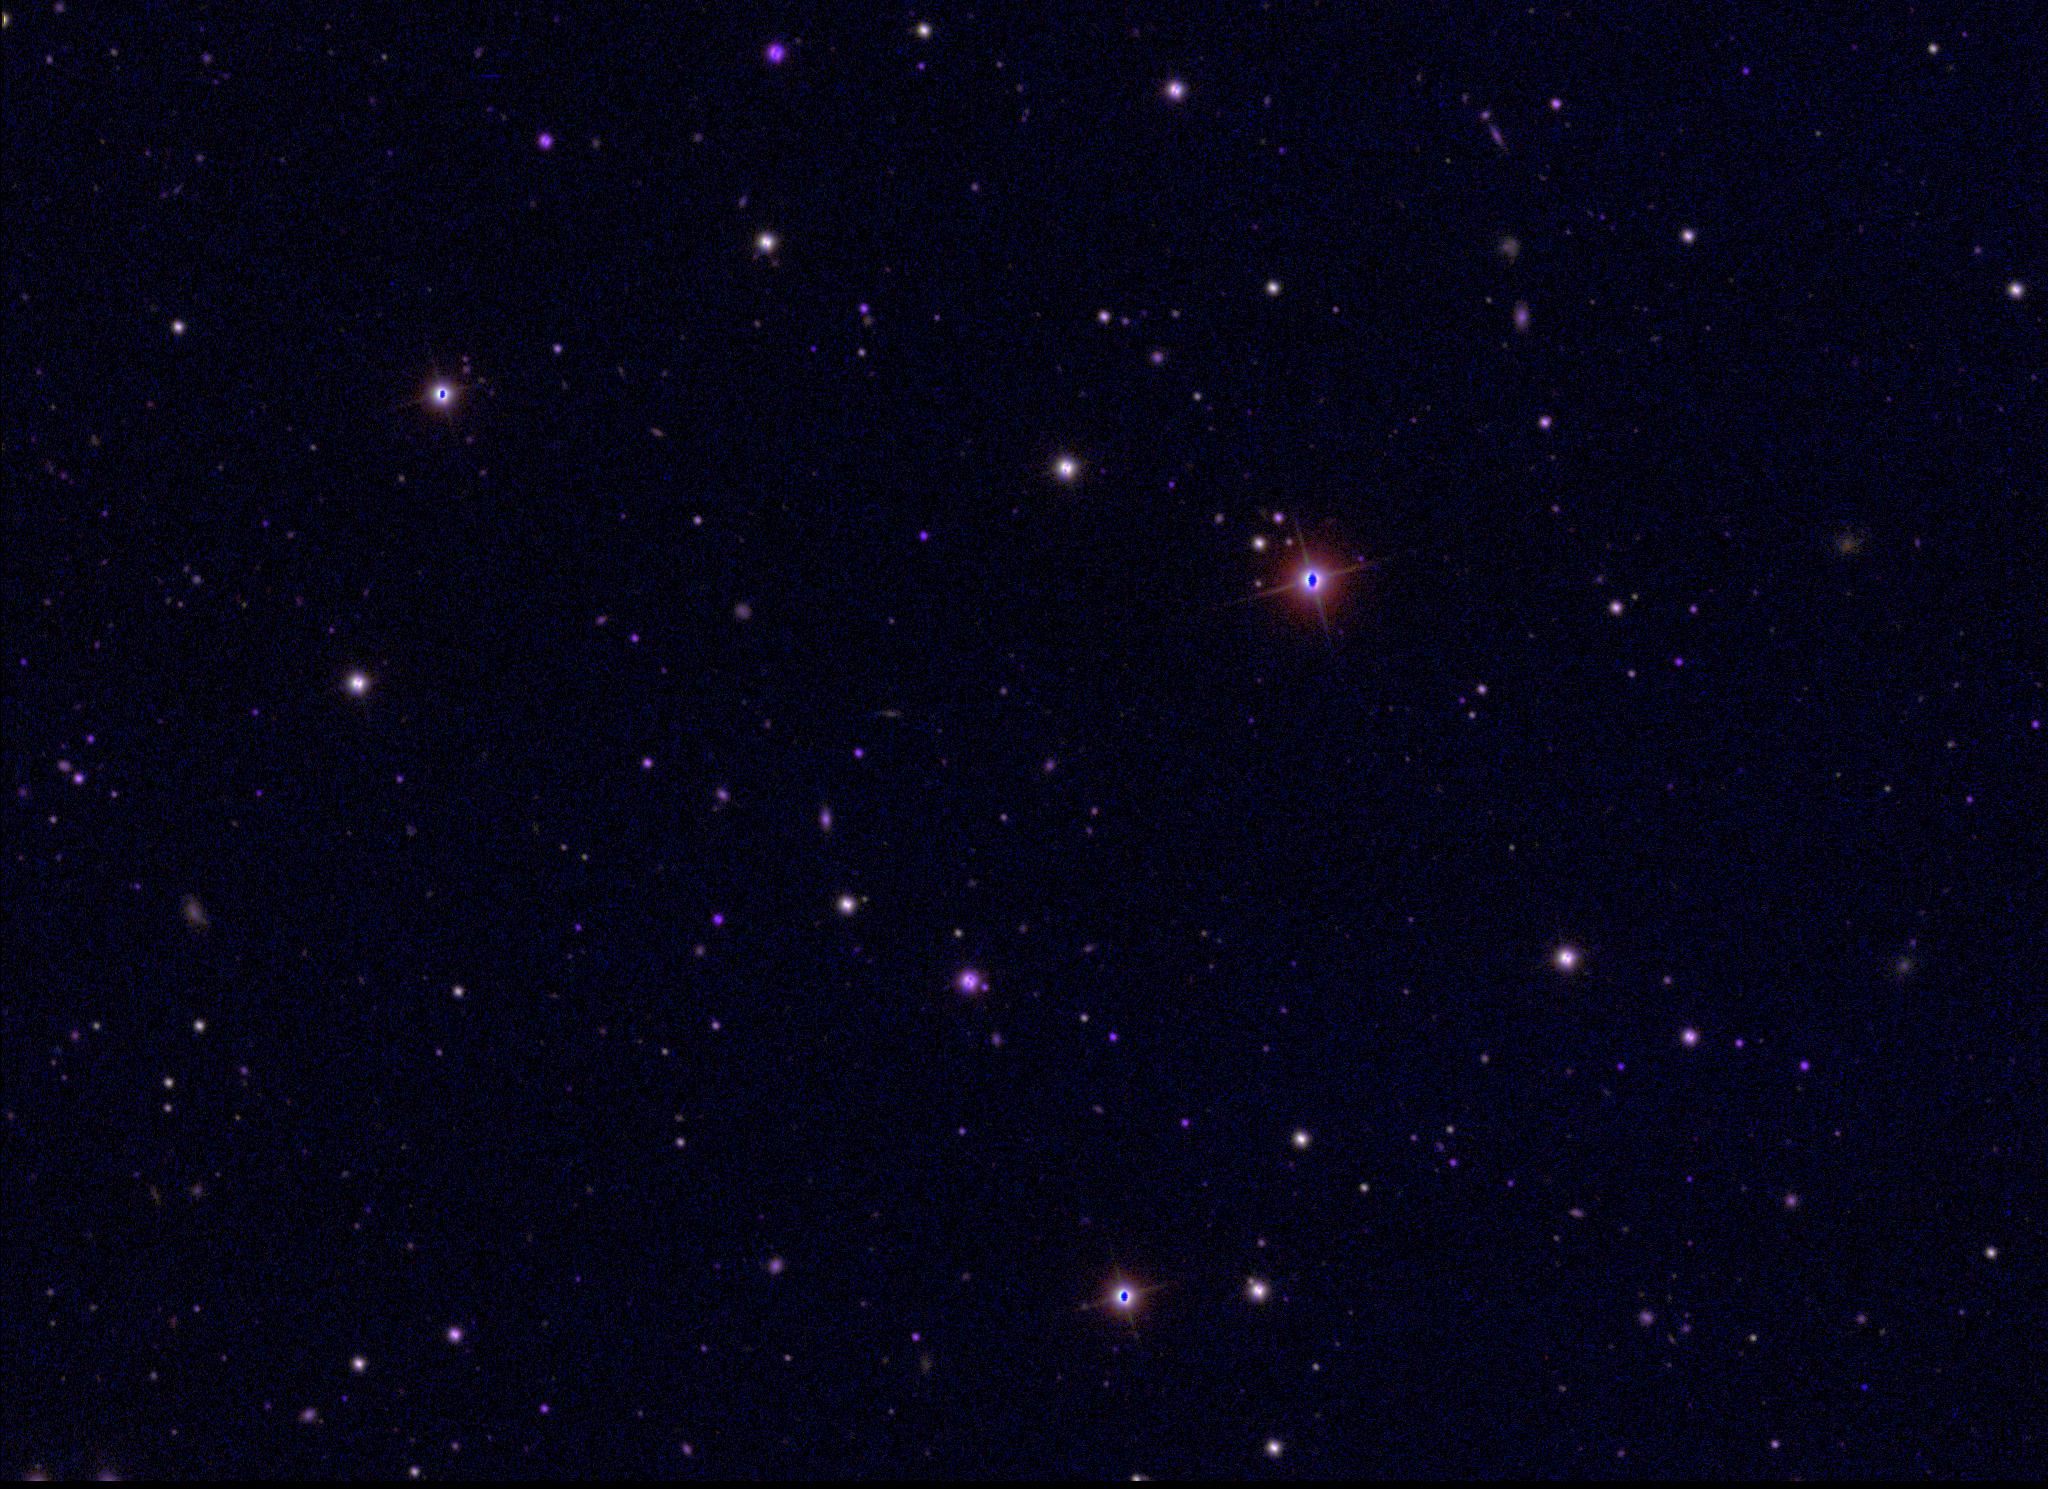L: (1856, 1379, 1870, 1394)
